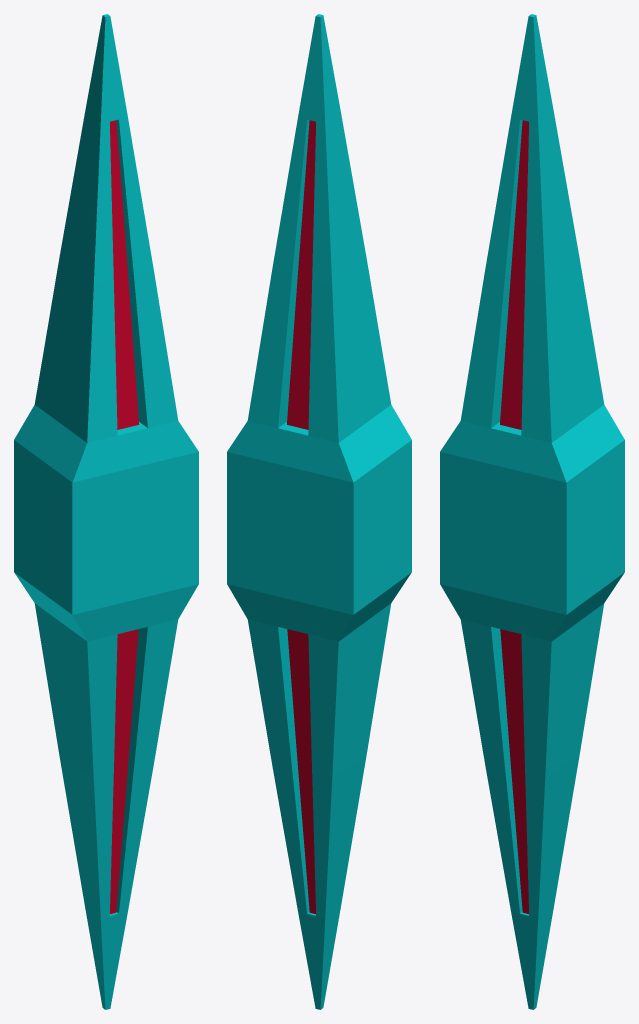
The model's file is Block1.fbx.
3 views of the same model, side by side, from view 1: azimuth 30°, elevation 25°; view 2: azimuth 150°, elevation 25°; view 3: azimuth 330°, elevation 25° (orthographic).
Parts seen in each view (by area): view 1: Cube; view 2: Cube; view 3: Cube.
Boxes of the visible parts, x1,y1,x2,y2 form: Cube: (14, 14, 198, 1009); Cube: (227, 14, 411, 1009); Cube: (440, 14, 624, 1009).
Size of the model in its own units: 40 by 300 by 32.
